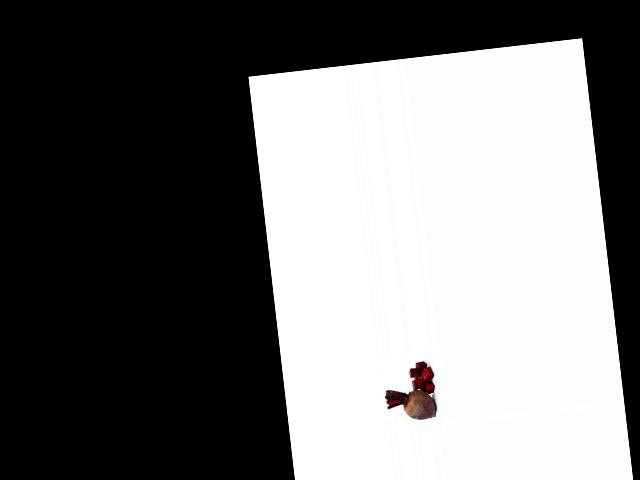beet: (385, 384, 437, 423)
